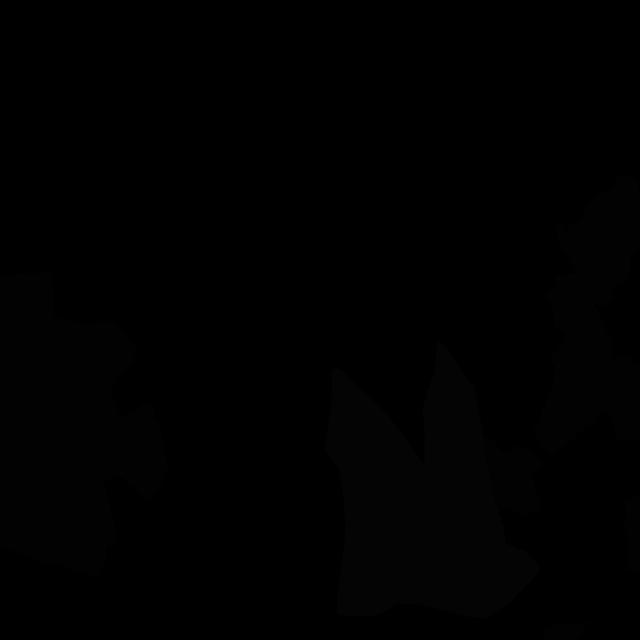cardboard: (0, 267, 117, 554), (532, 273, 640, 455), (32, 317, 138, 481), (0, 435, 107, 579), (556, 175, 640, 308), (105, 359, 169, 500), (483, 435, 543, 516), (622, 492, 640, 574), (540, 621, 591, 640)
soft_plastic: (324, 340, 539, 618)
